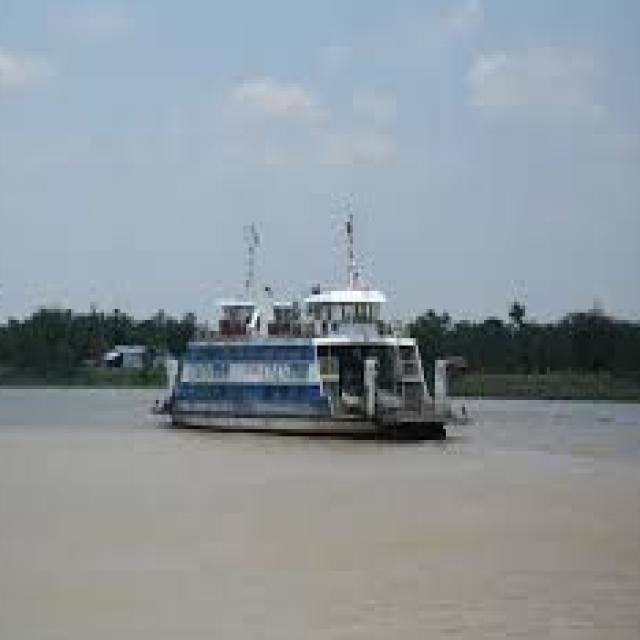passenger ship: (163, 286, 433, 436)
